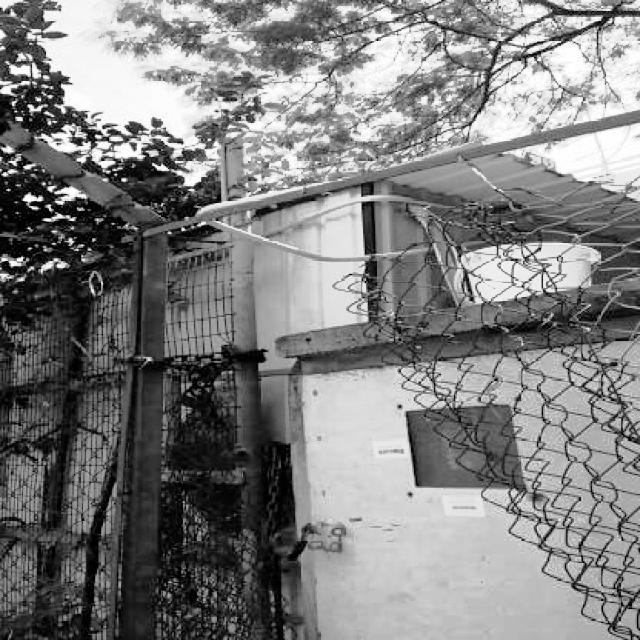anomaly-fence: (95, 134, 640, 634)
